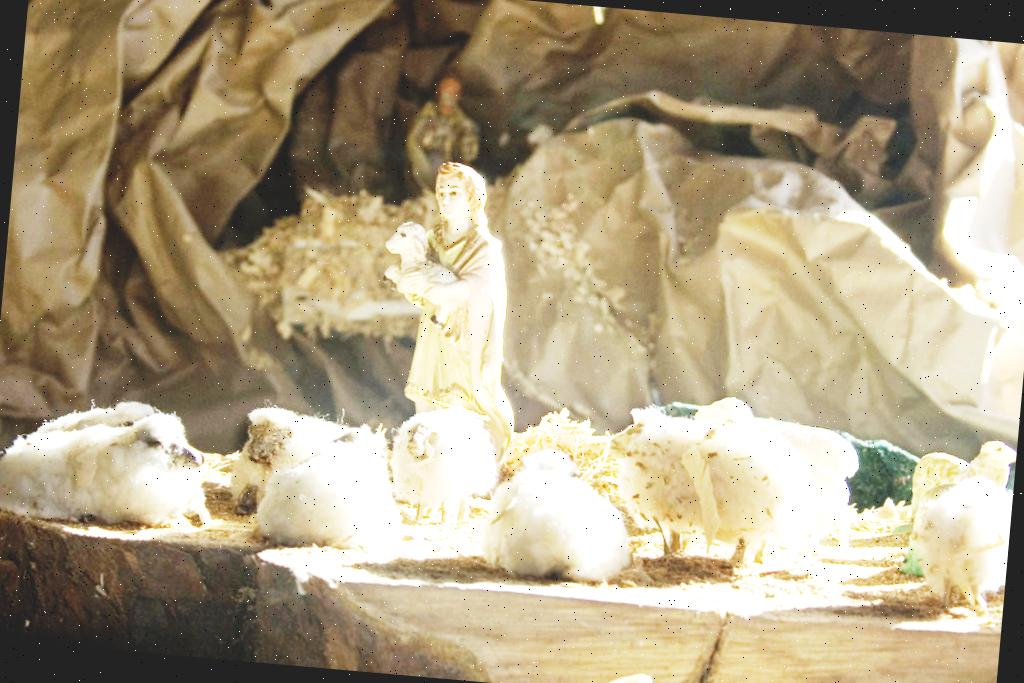Sheep: (592, 402, 820, 576), (0, 399, 216, 535), (464, 432, 643, 596), (240, 410, 410, 559), (222, 398, 392, 524), (680, 394, 870, 505), (906, 472, 1014, 626), (22, 387, 172, 495), (388, 396, 506, 526), (734, 454, 868, 566), (372, 218, 471, 352), (902, 421, 1018, 523)
